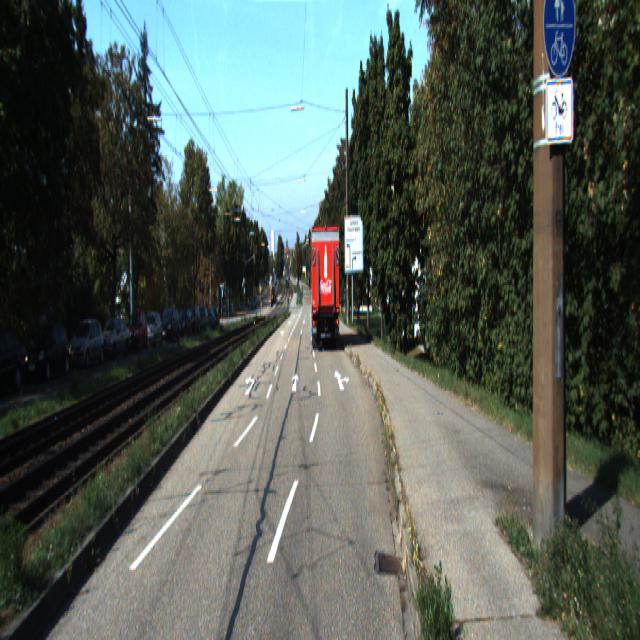Car: (309, 224, 342, 353), (24, 319, 70, 384), (0, 323, 30, 399), (68, 318, 105, 370), (98, 317, 132, 362), (126, 310, 150, 352), (142, 310, 163, 346)
